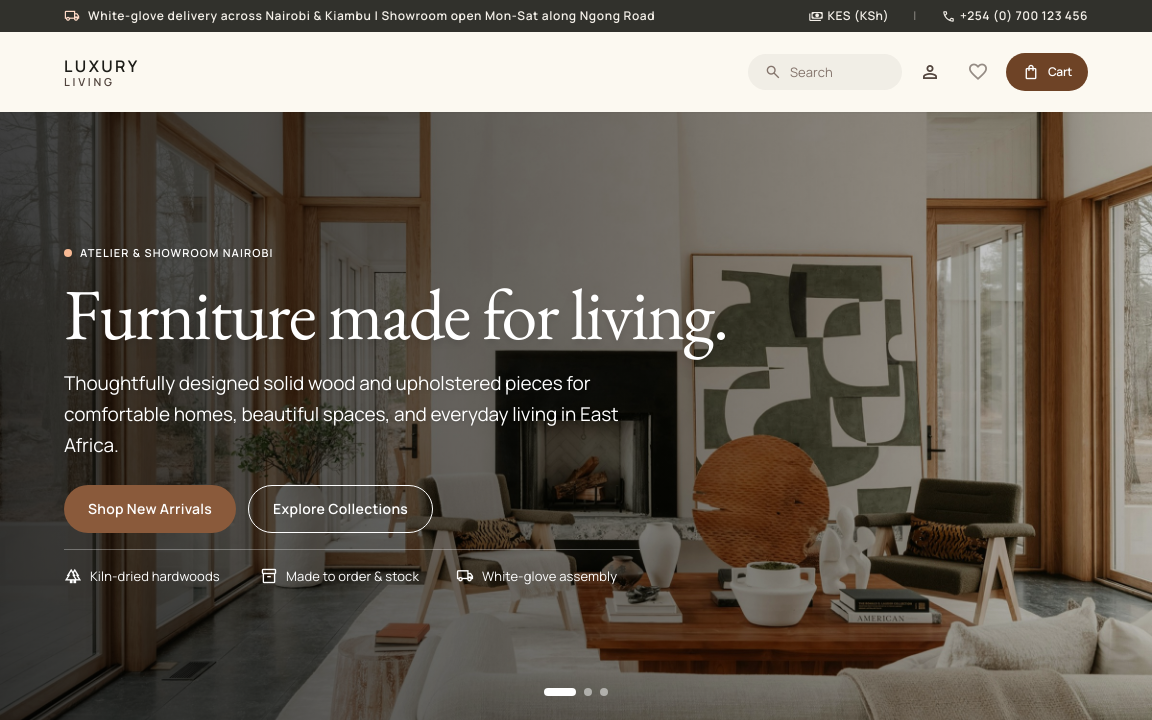
Test: shopping › changes quantity and removes lines from the drawer
Click the button named "Account" at (930, 72), box [910,52,950,92]
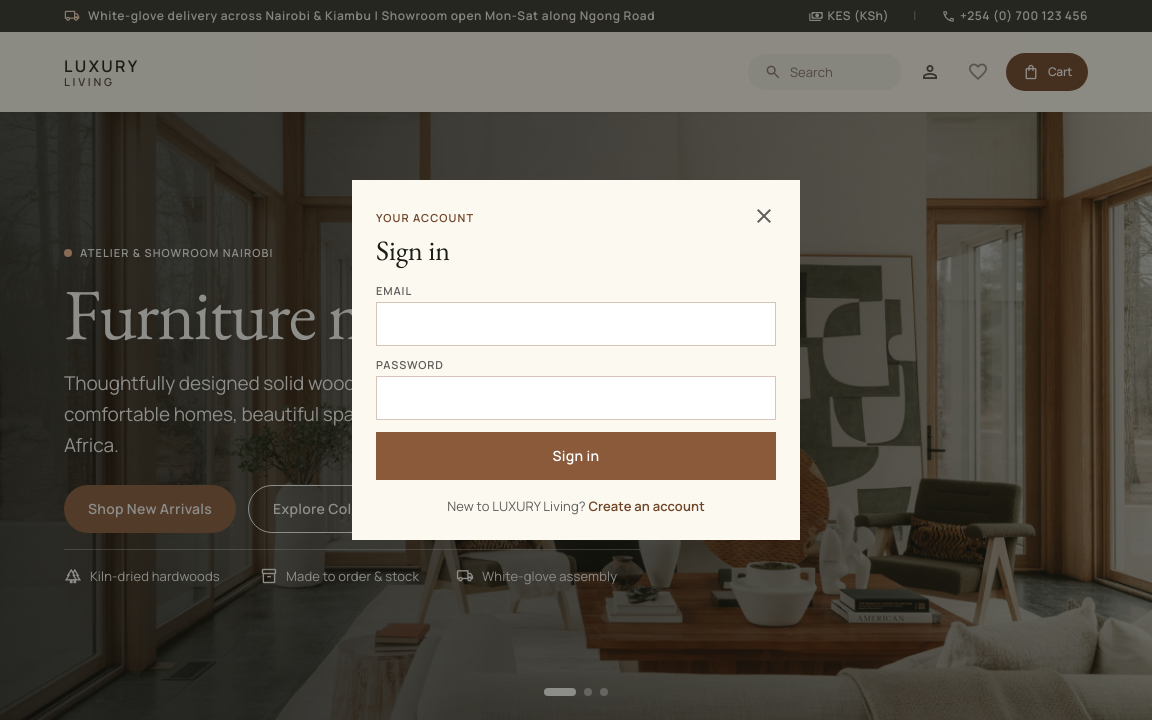
Type "jess@example.com" into the field labelled "Email" at (576, 324), box [376,302,776,346]
Type "correct-horse" into the password field labelled "Password" at (576, 398), box [376,376,776,420]
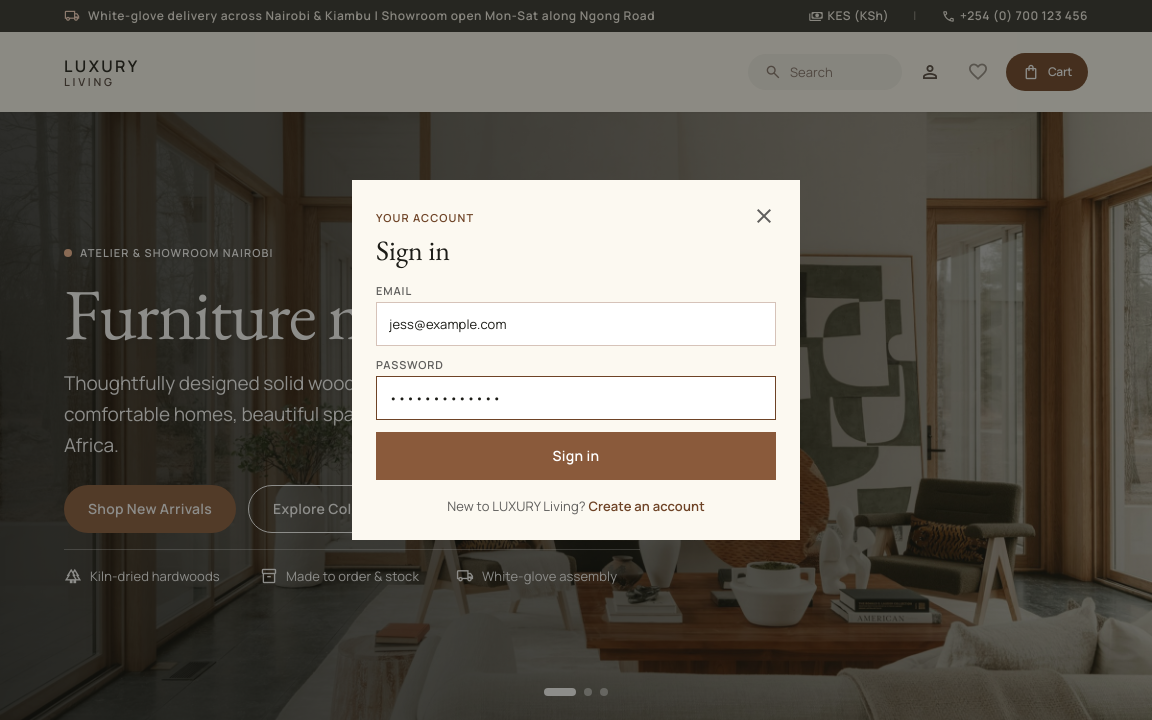
Click the button "Sign in" at (576, 456), box [376,432,776,480]
(page scrolled)
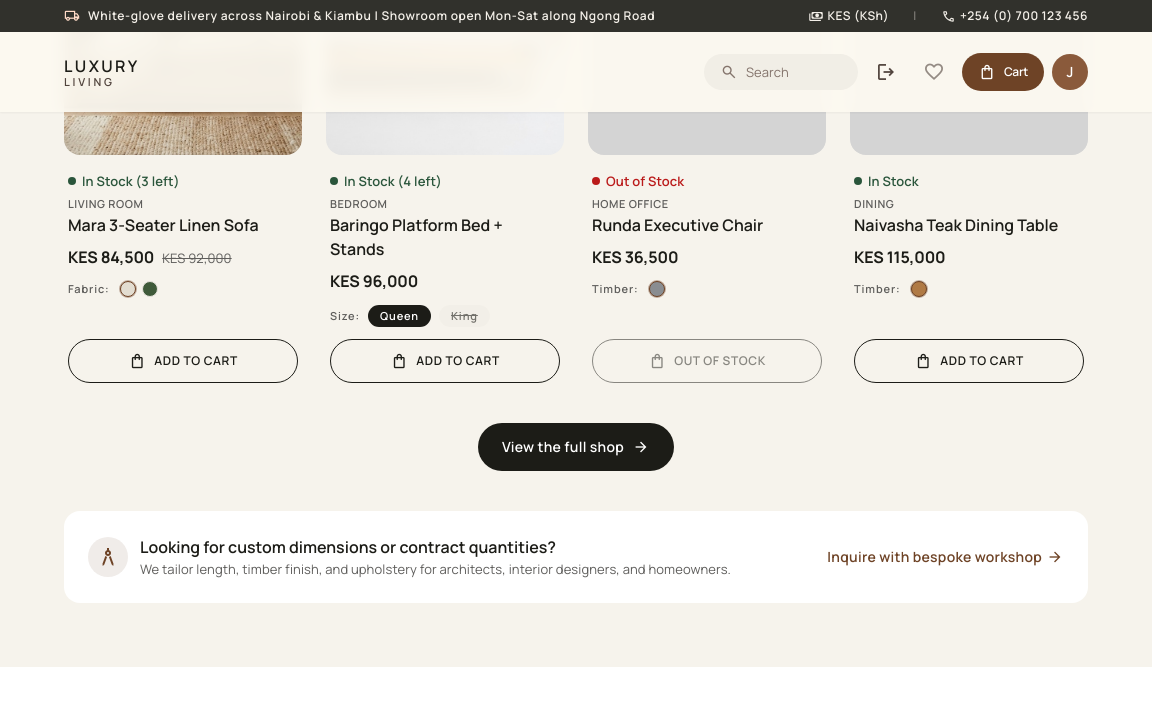
Expected: the heading "Mara 3-Seater Linen Sofa" is shown, [68,214,258,236]
Now the button named "Sign out" is shown, box [866,52,906,92]
Click the button "Add to Cart" below "KES 84,500" at (183, 360), box [68,338,298,382]
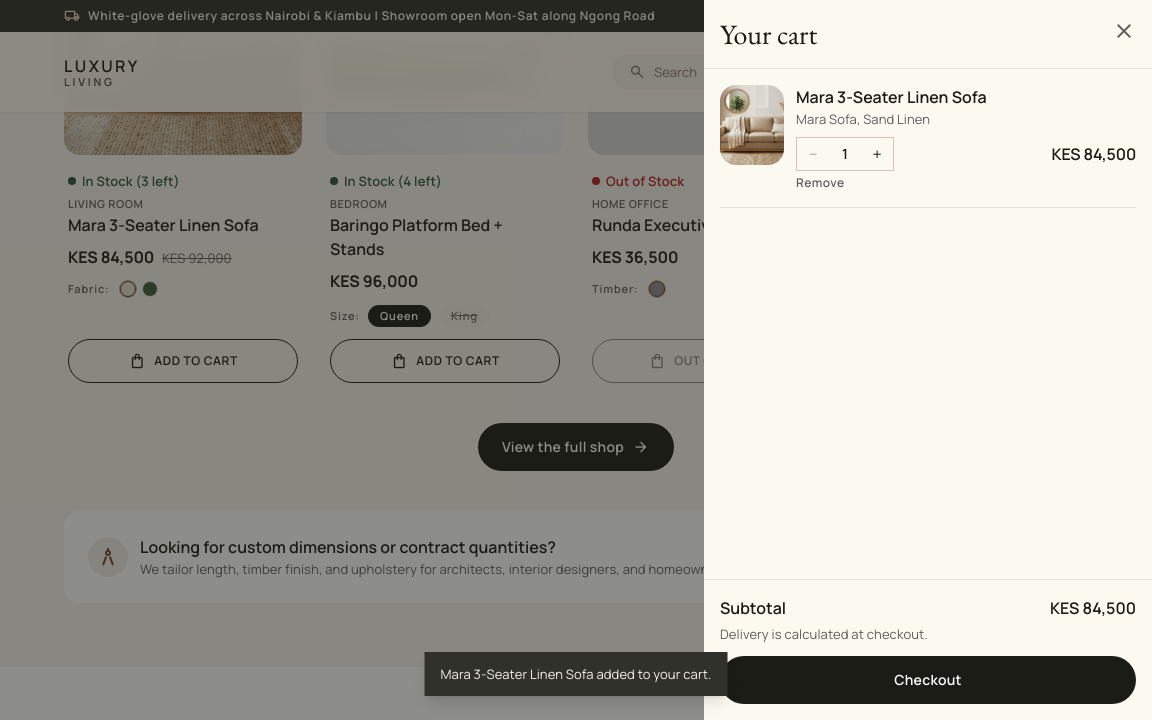
Click the button named "Increase quantity of Mara" at (877, 154), box [861,138,893,170]
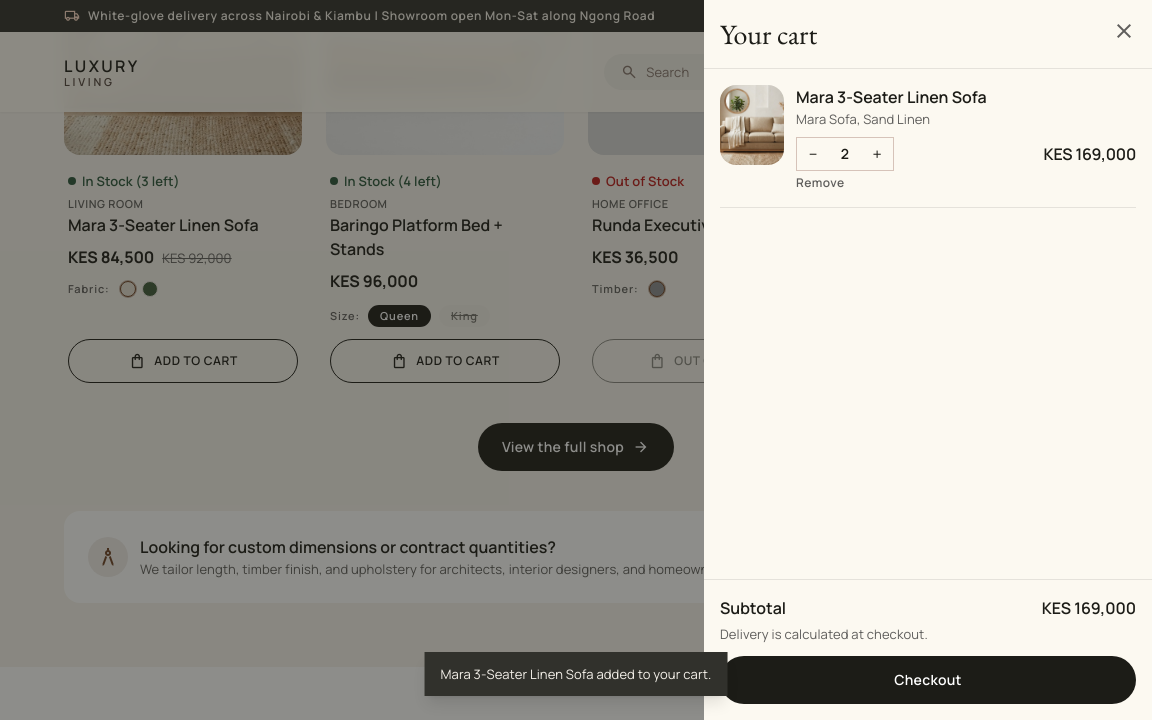
Now the text "KES 169,000" is shown 2 times, box [1044,142,1136,166]; [1042,596,1136,620]
Click the button "Remove" at (820, 183), box [796,175,845,191]
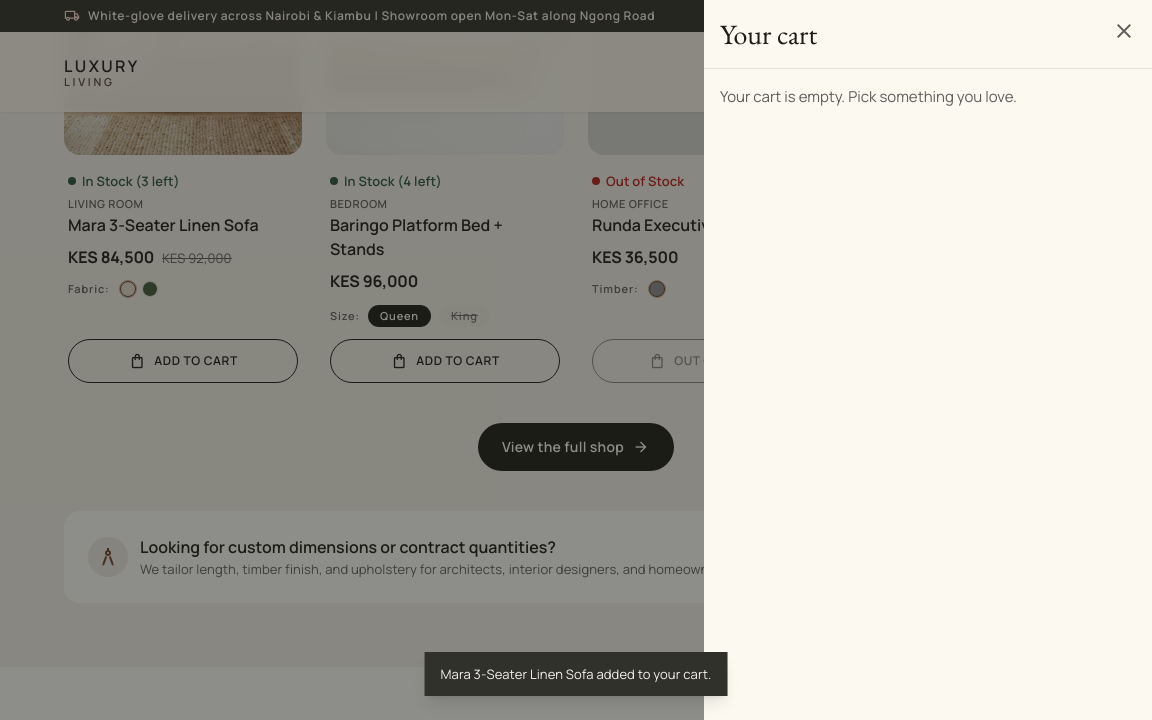
Now the text "Your cart is empty. Pick something you love." is shown, box [720,86,1017,107]
